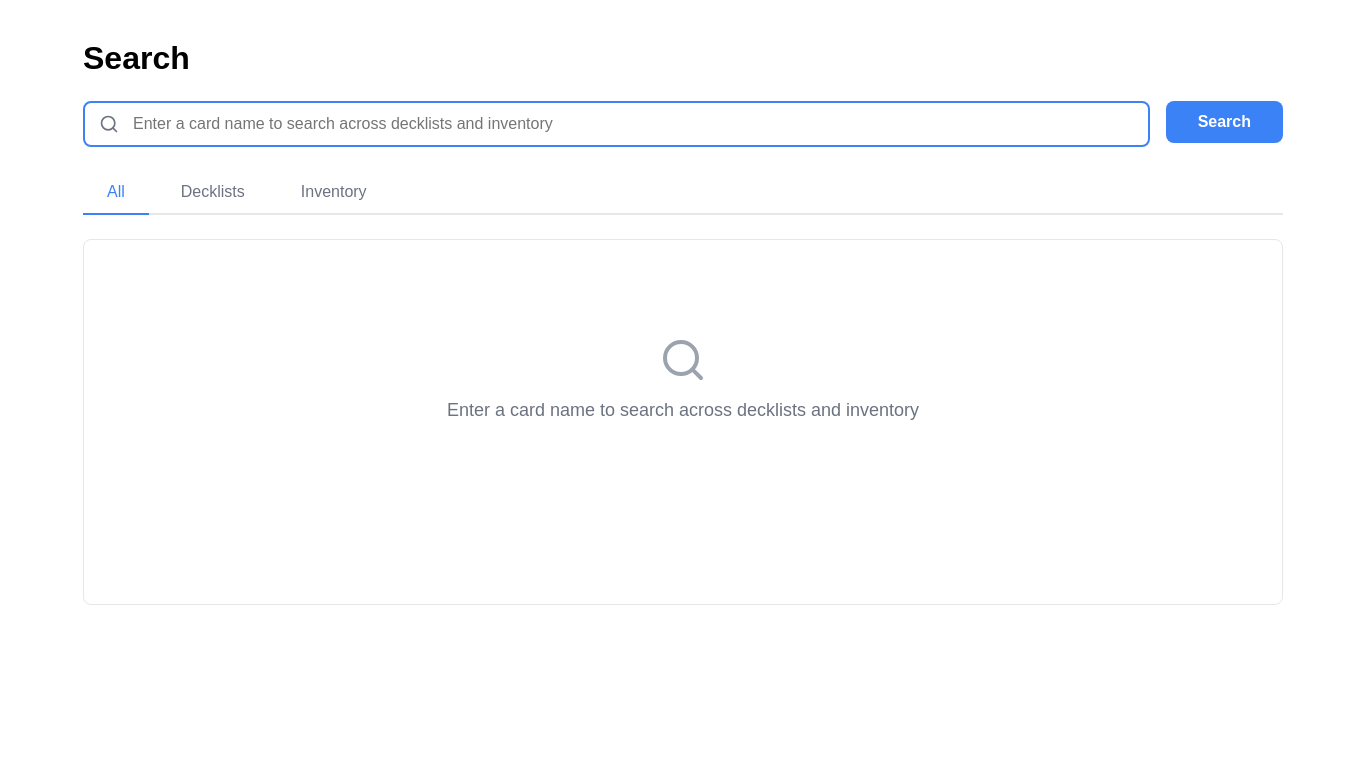
Test: Search Validation › should clear validation error when user starts typing
First trigger validation error
Click the button "Search" at (1224, 122), box [1166, 101, 1283, 143]
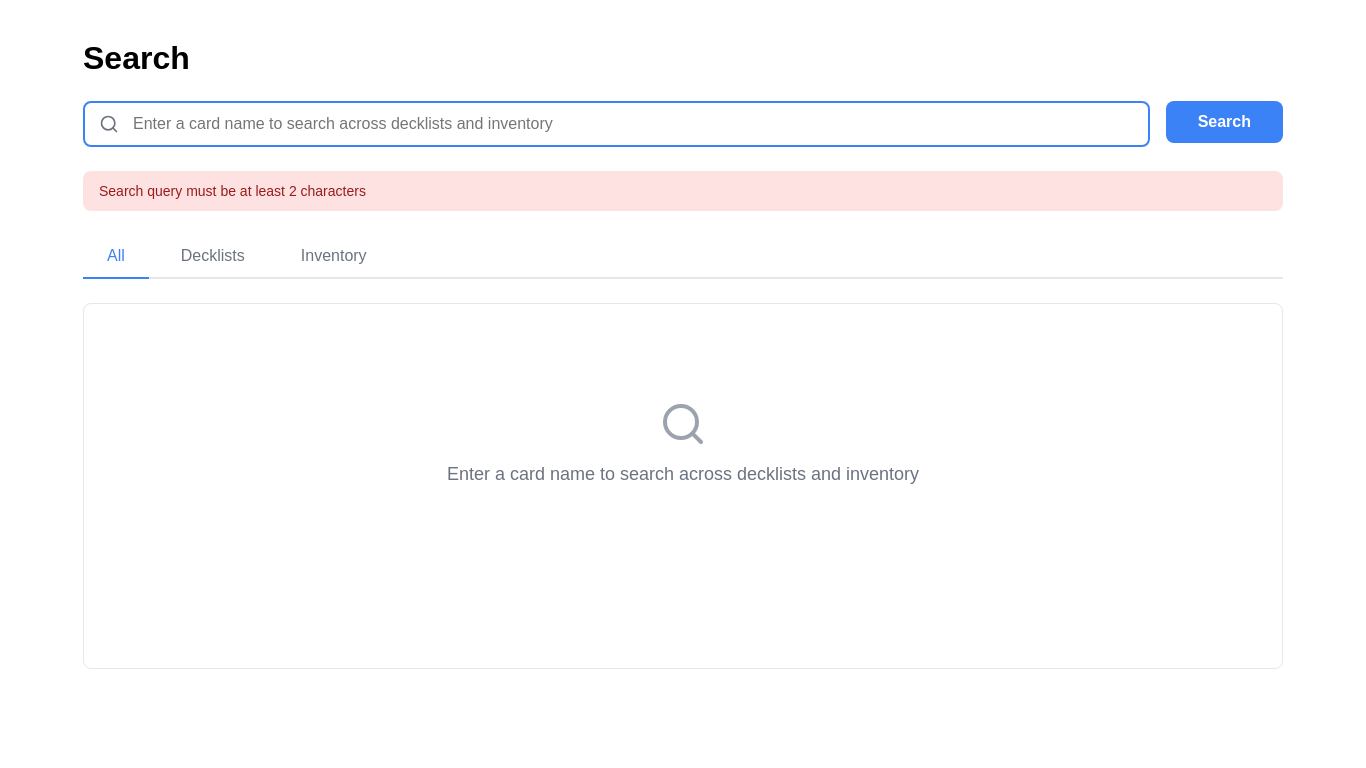
Result: the text "Search query must be at least 2 characters" is shown at [83, 171, 1283, 211]
Then start typing
Type "a" into the field with placeholder "Enter a card name to search across decklists and inventory" at (616, 124), box [83, 101, 1150, 147]
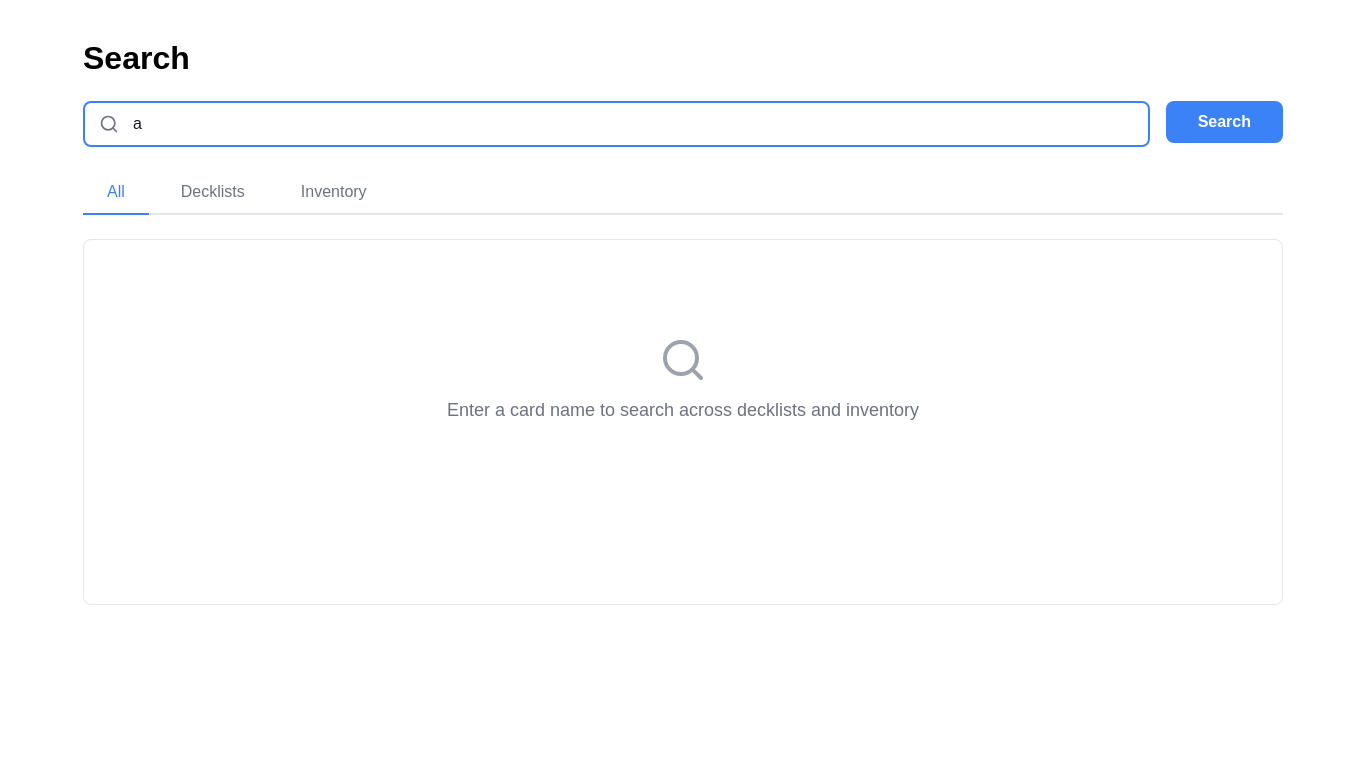
Result: the text "Search query must be at least 2 characters" is gone
